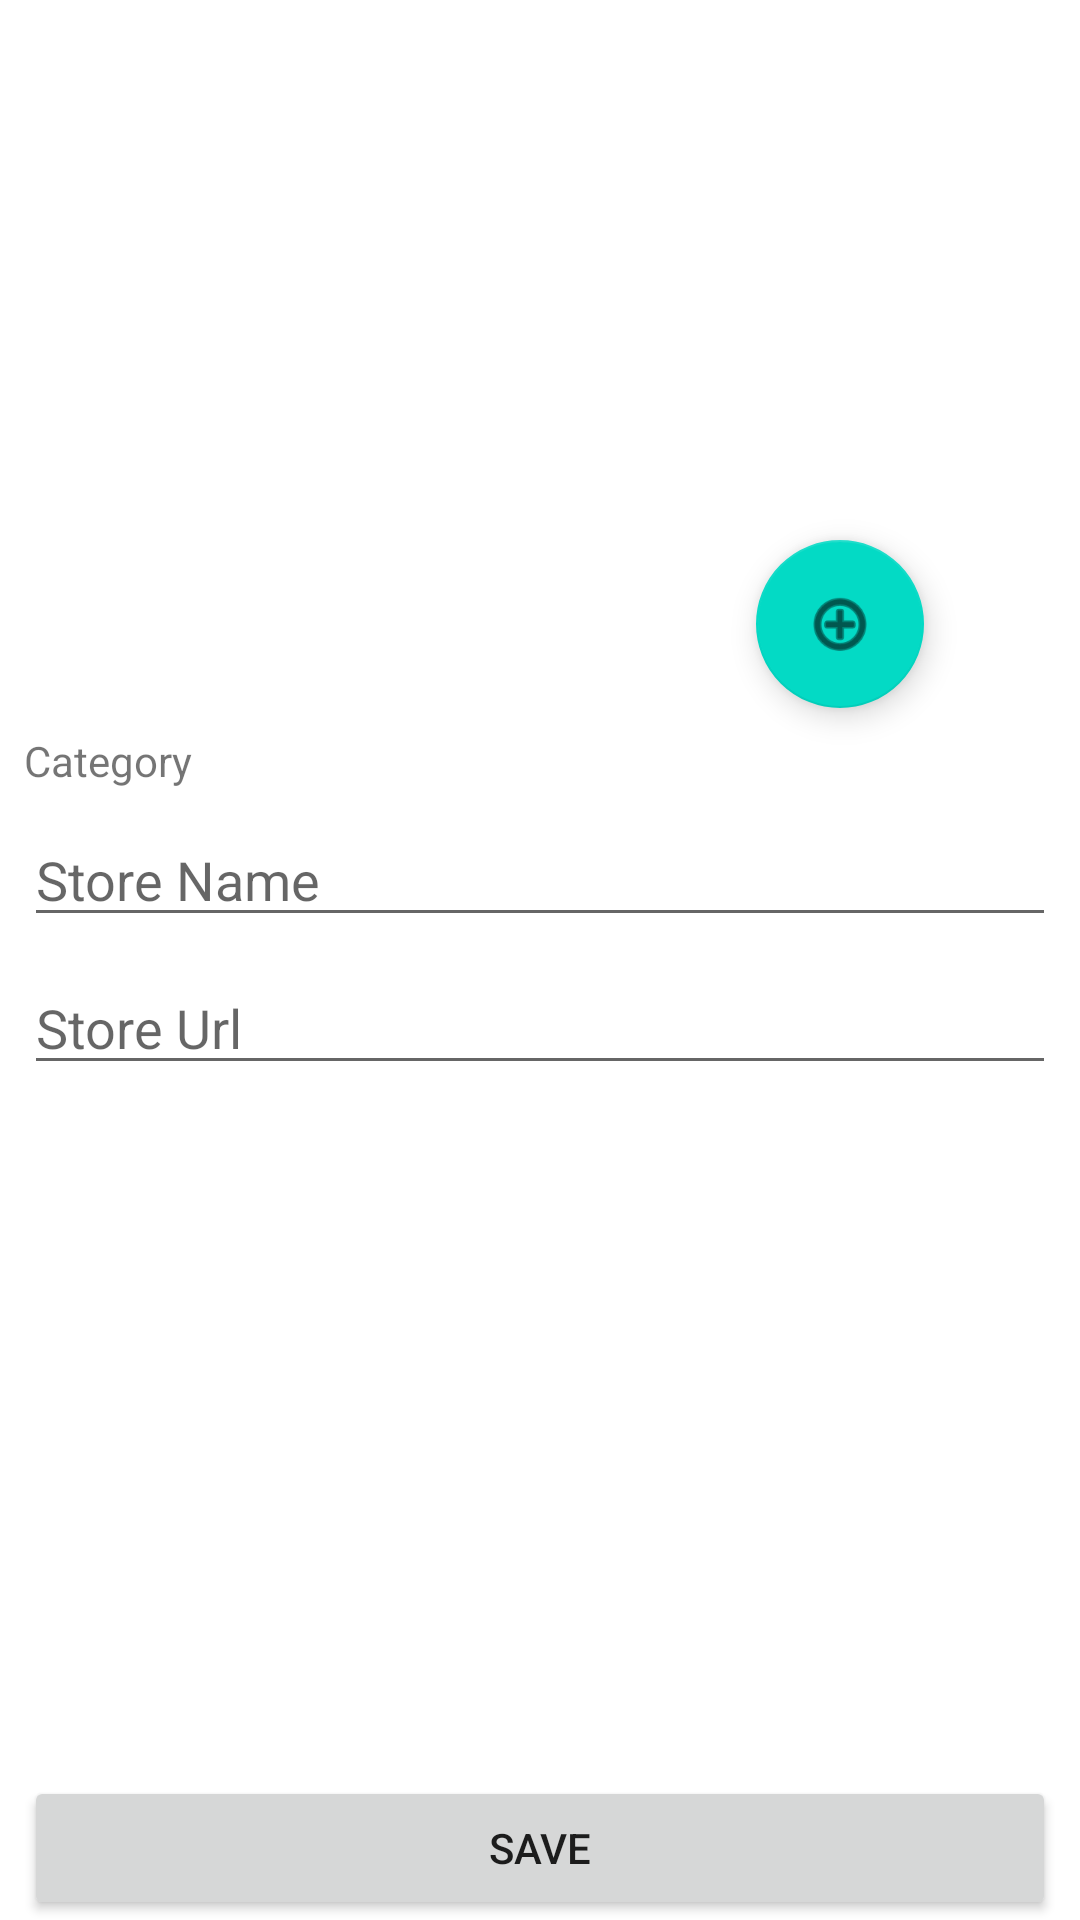

Where icons sit on this 1080px x 1920px app screen, as (x1, y1, x2, y2):
add: (756, 540, 924, 708)
